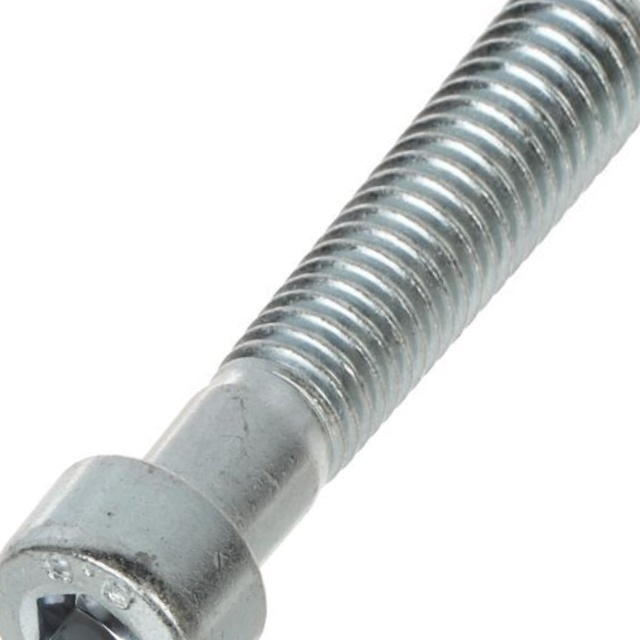allen: (23, 584, 157, 640)
